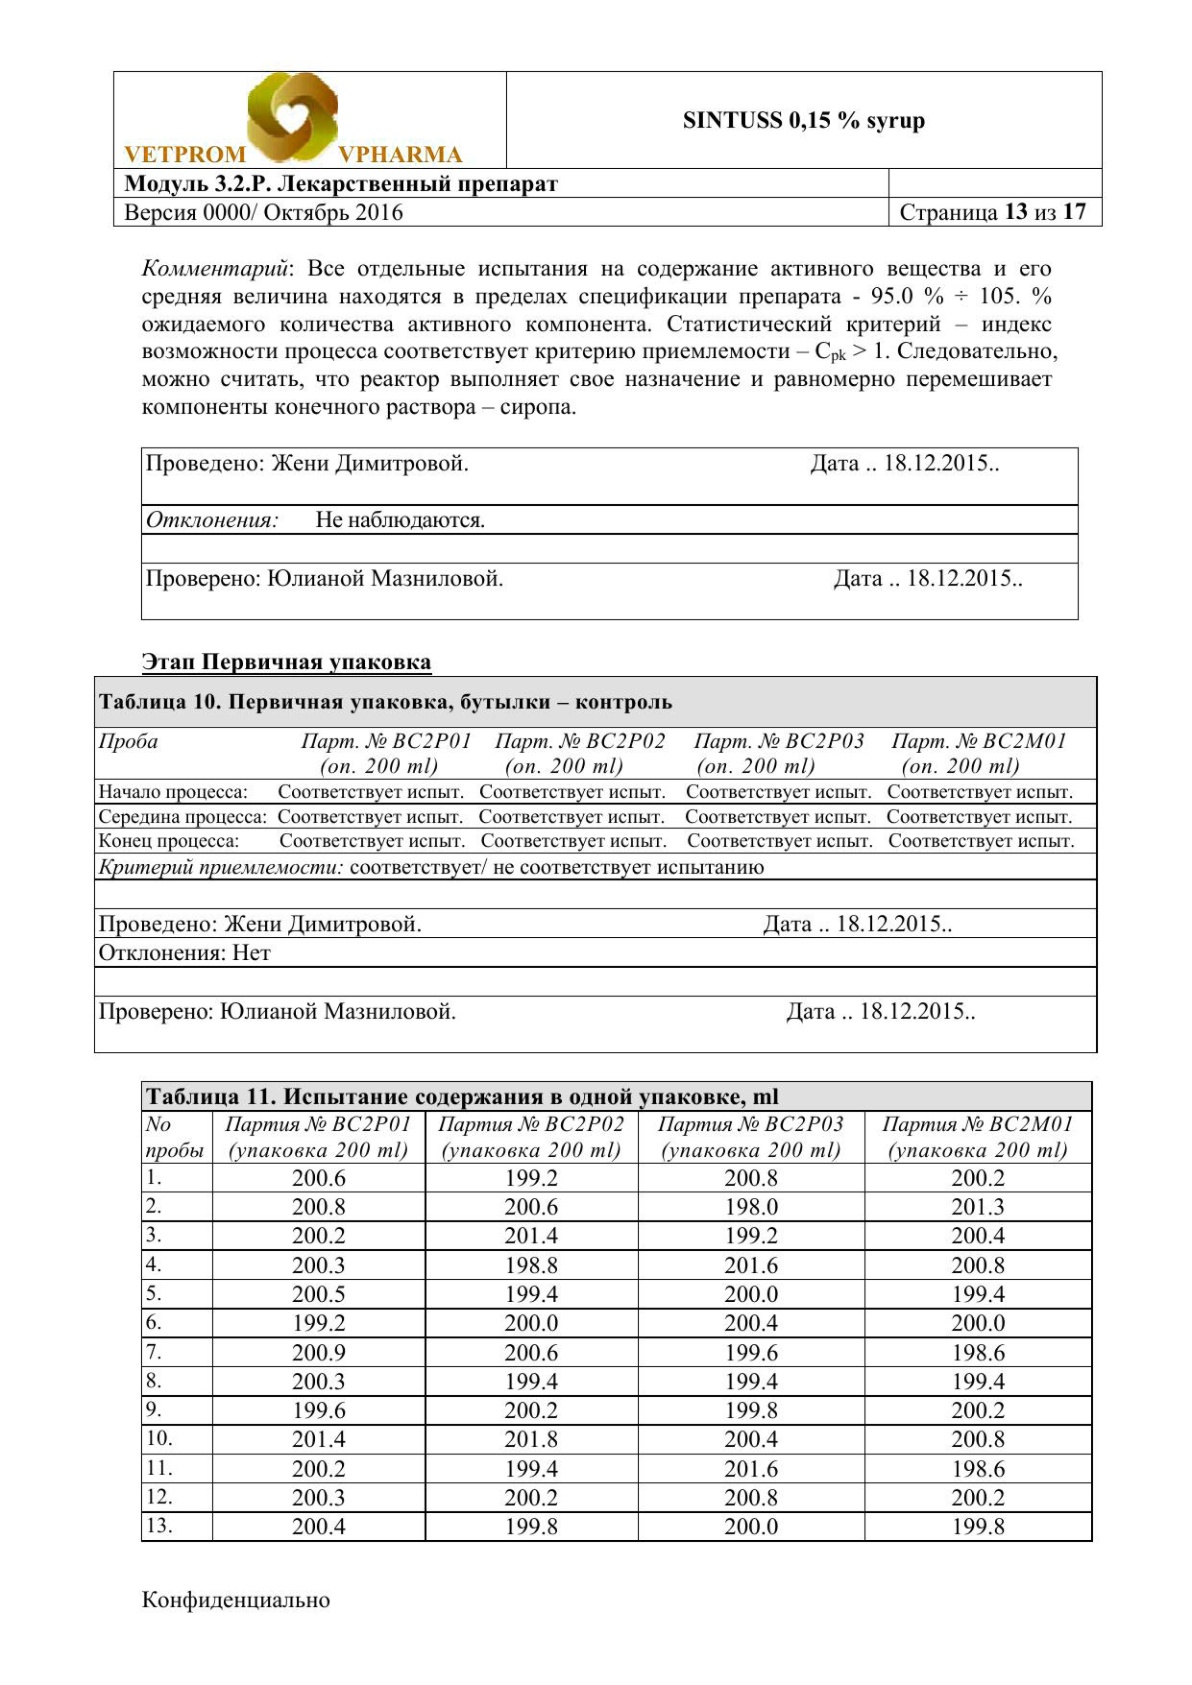full_lined: (139, 1080, 1093, 1543), (93, 676, 1098, 1054), (141, 446, 1078, 621)
merged_cells: (112, 70, 1103, 228)
